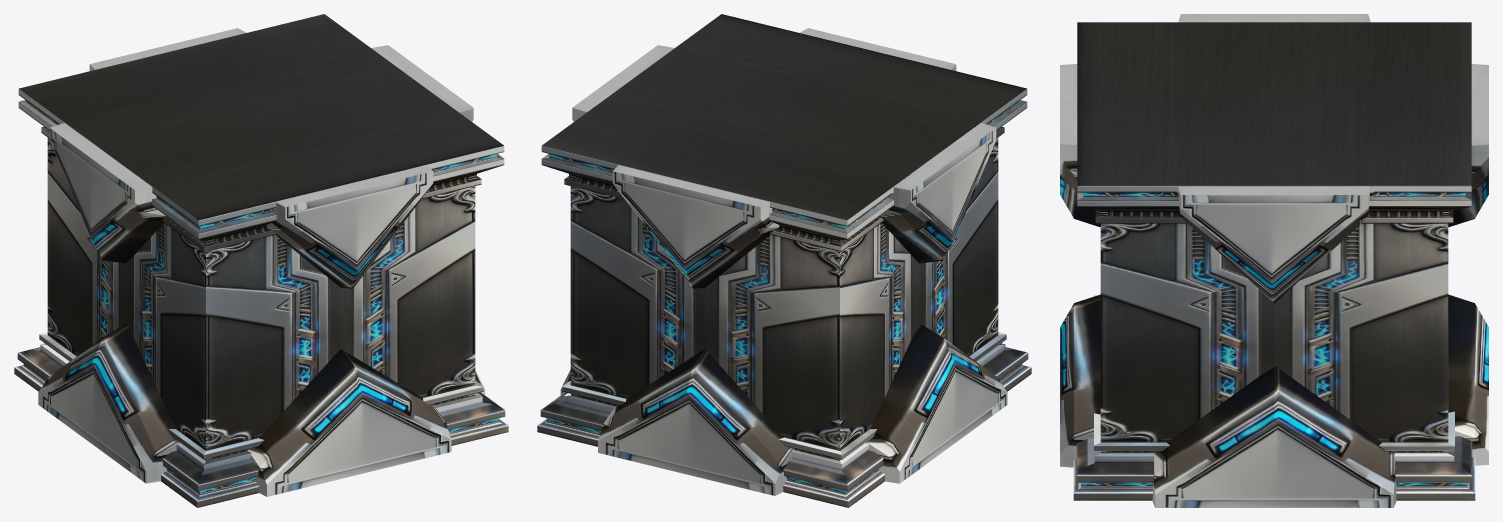
Rendered from Pedestal.glb.
3 renders of one model, left to right at view 1: azimuth 30°, elevation 25°; view 2: azimuth 150°, elevation 25°; view 3: azimuth 270°, elevation 25°, orthographic. The views are drawn at different scales.
Visible parts, largest first — view 1: Pedestal, Cube.007, Cube.006, Cube.003, Cube.001, Cube.002, Cube.004; view 2: Pedestal, Cube.008, Cube.006, Cube.004, Cube.001, Cube.002, Cube.003; view 3: Pedestal, Cube.005, Cube.002, Cube.007, Cube.008, Cube.003, Cube.004, Cube.001.
Part boxes in pixels (x1,y1,x2,y2): Pedestal: [14, 14, 508, 507]; Cube.007: [247, 349, 451, 496]; Cube.006: [38, 323, 180, 483]; Cube.003: [266, 165, 433, 288]; Cube.001: [49, 123, 167, 263]; Cube.002: [371, 45, 473, 121]; Cube.004: [89, 28, 246, 70]; Pedestal: [537, 14, 1031, 507]; Cube.008: [598, 349, 794, 495]; Cube.006: [865, 323, 1007, 483]; Cube.004: [612, 165, 779, 288]; Cube.001: [878, 123, 996, 263]; Cube.002: [572, 45, 674, 121]; Cube.003: [800, 28, 956, 70]; Pedestal: [1073, 22, 1475, 500]; Cube.005: [1152, 365, 1396, 507]; Cube.002: [1178, 186, 1370, 303]; Cube.007: [1060, 294, 1100, 467]; Cube.008: [1448, 294, 1488, 465]; Cube.003: [1060, 64, 1100, 227]; Cube.004: [1448, 64, 1488, 227]; Cube.001: [1178, 14, 1370, 22].
Bounding box in the file's own units: 1.3 × 1.05 × 1.3.
1 material, 1 textured.
